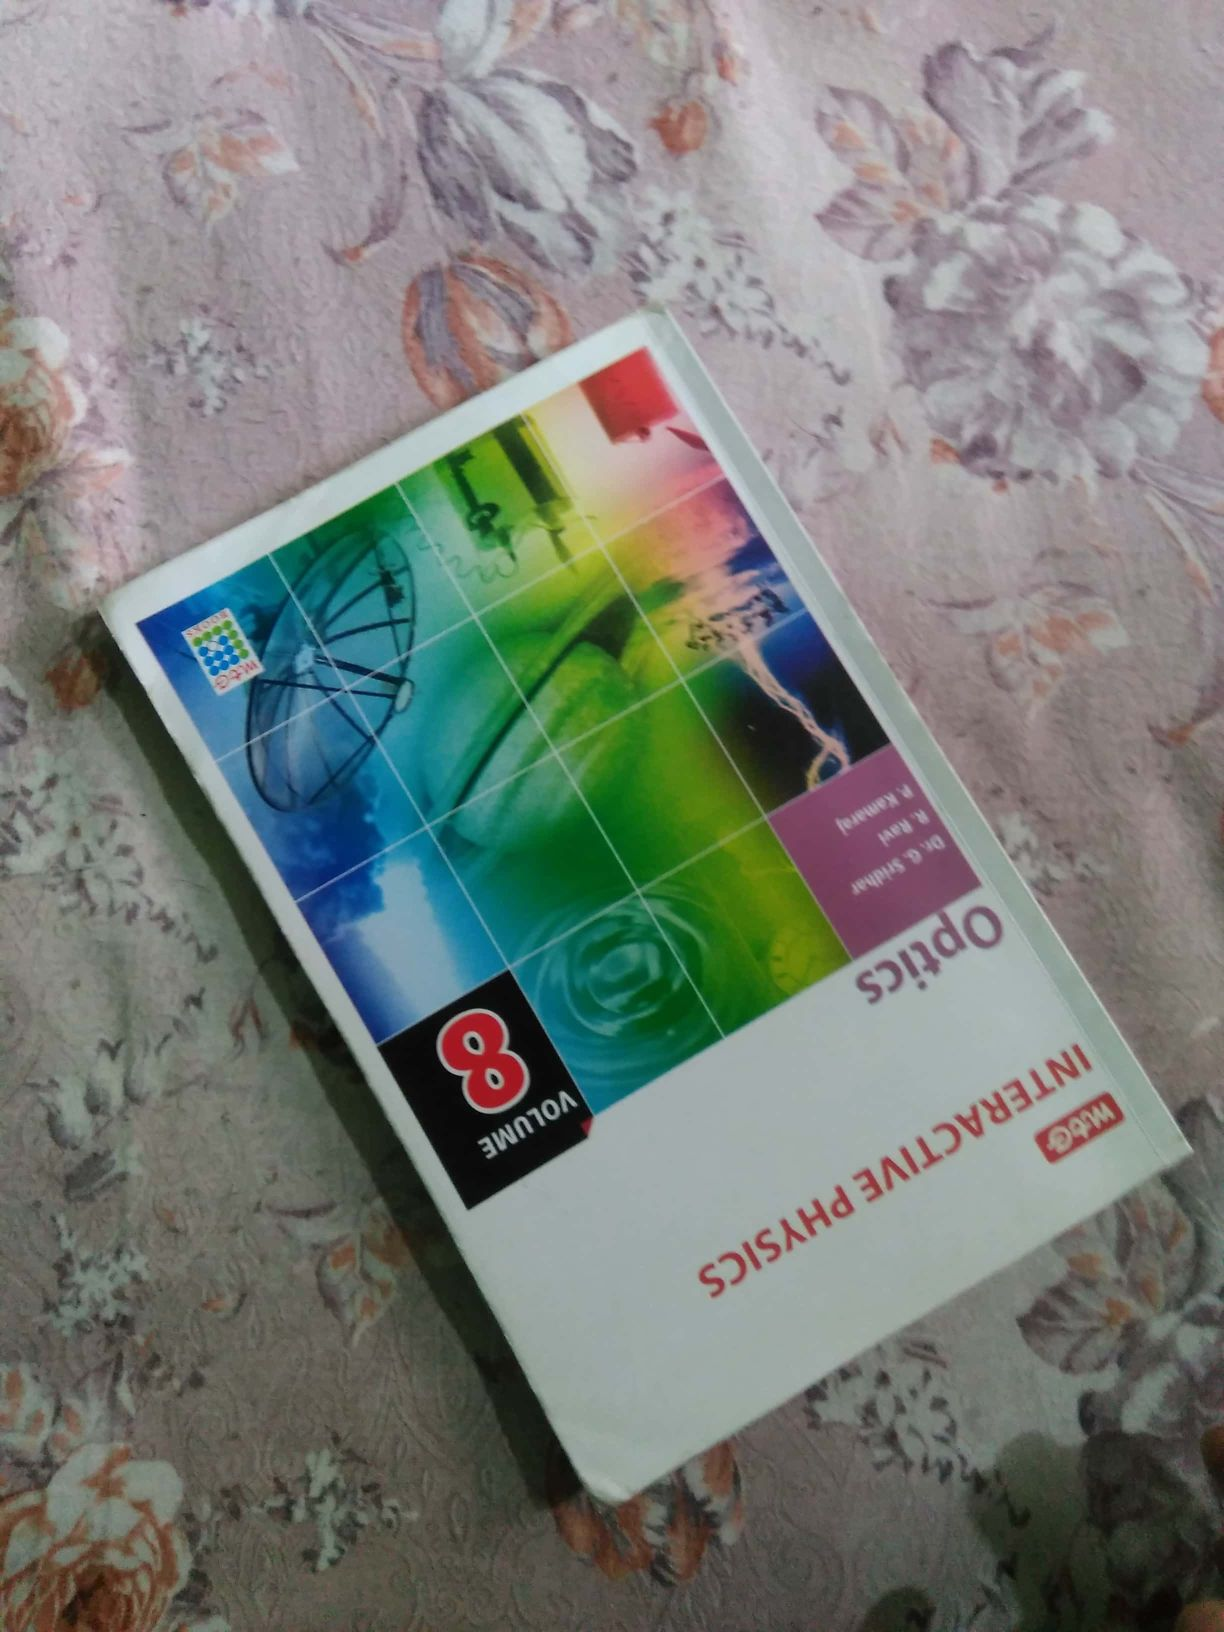optics: (75, 334, 1224, 1503)
